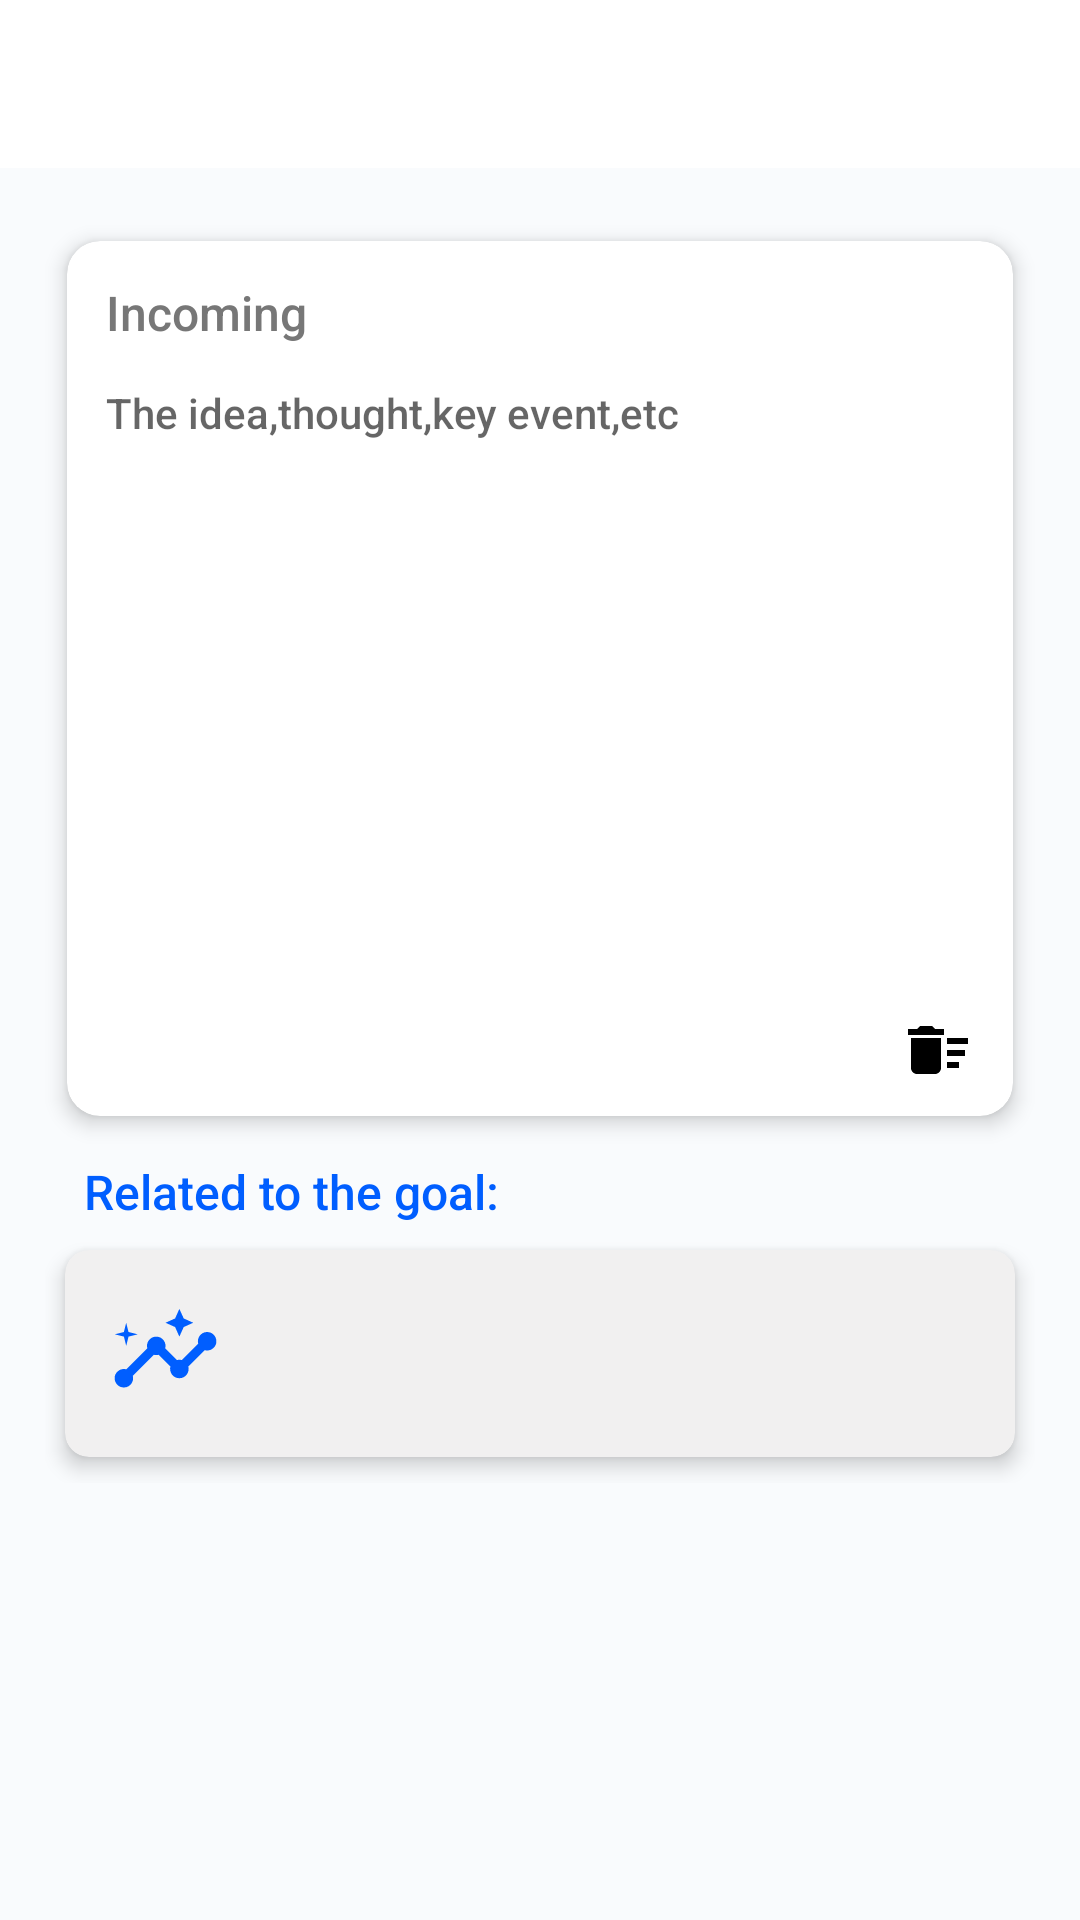

Locate icon controls on the screen. Image size 1080*1920, boxes as (x1, y1, x2, y2).
delete: (908, 1026, 968, 1074)
